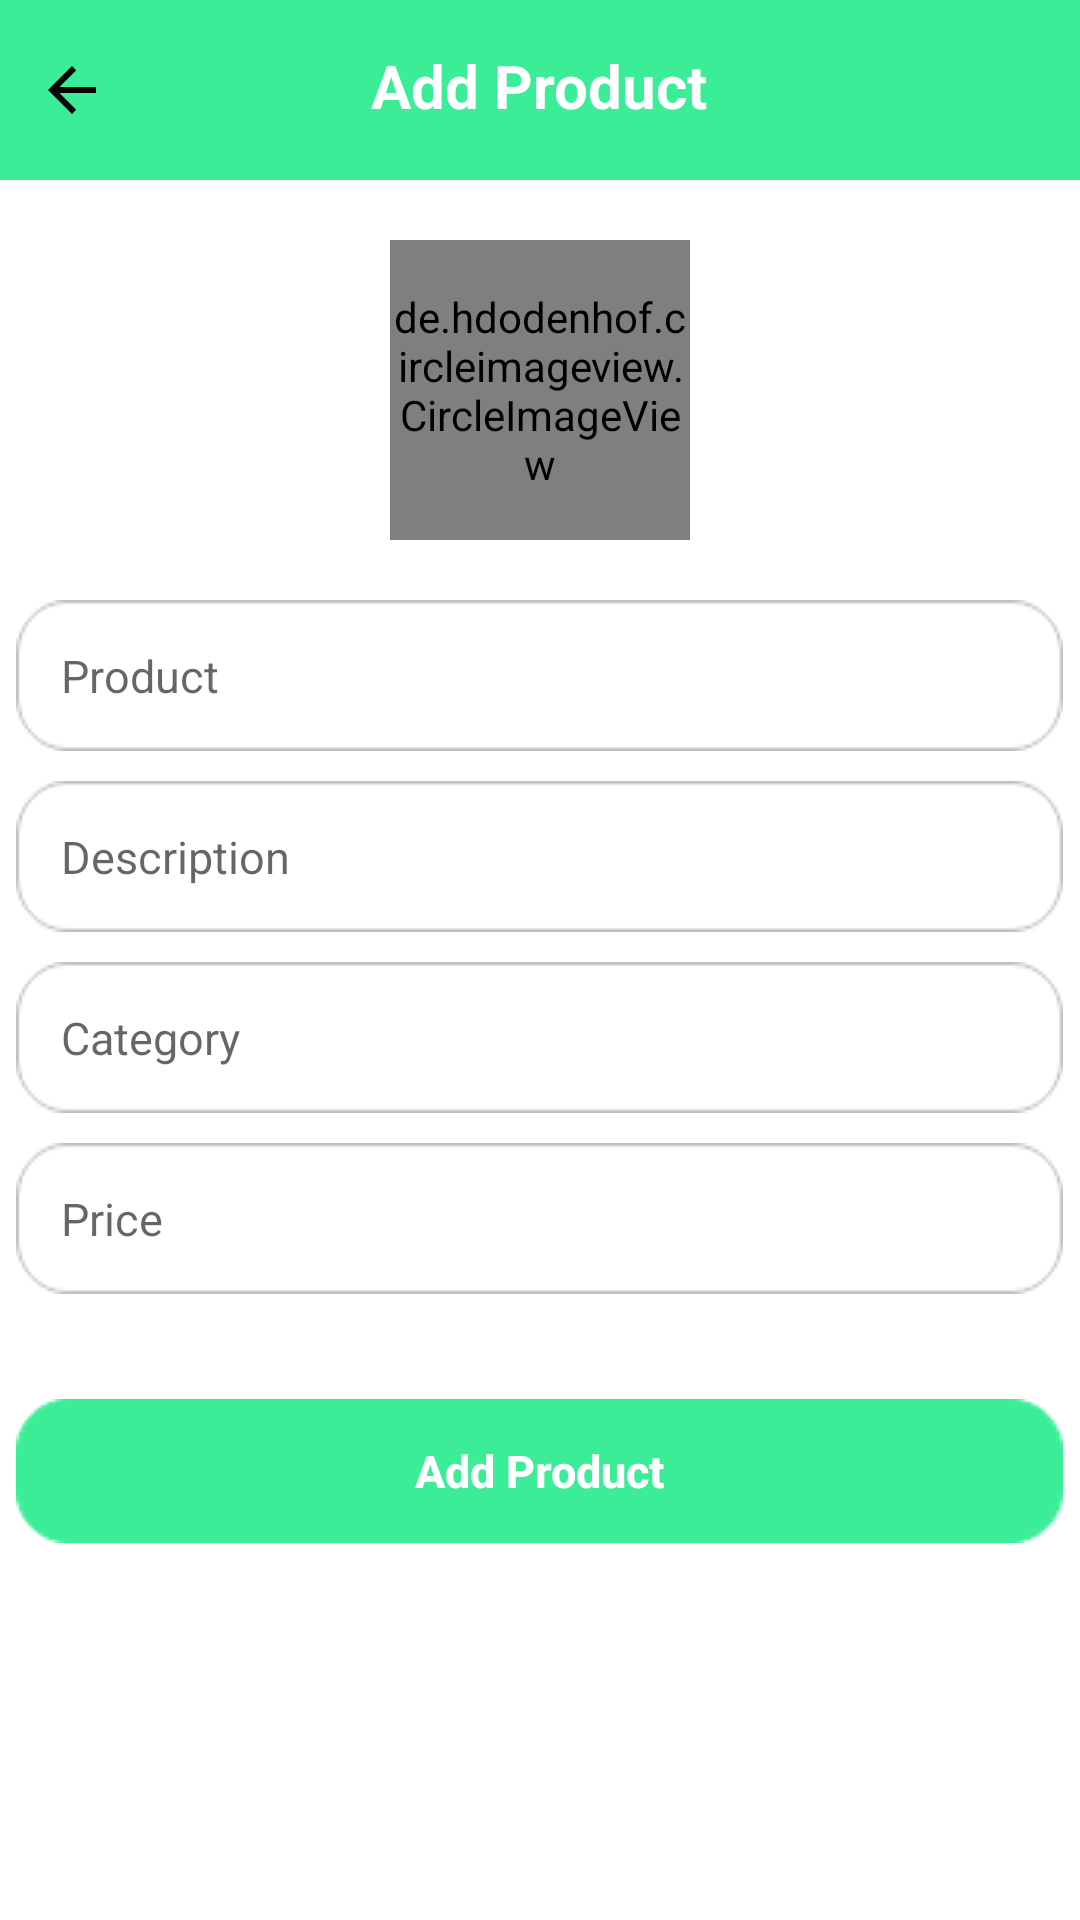

Where icons sit on this 1080 x 1920 app screen, as bbox(x1, y1, x2, y2):
tombol kembali: bbox(48, 66, 96, 114)
